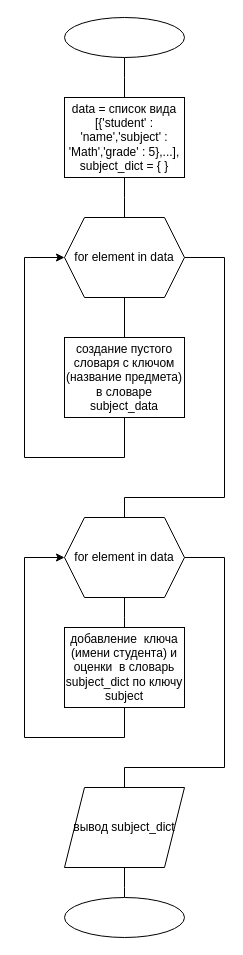
This 243x955 diagram has some shape labels left out. The centre of each missing label's shape, as x and y in pixels:
Конец: [124,917]
Начало: [124,37]
